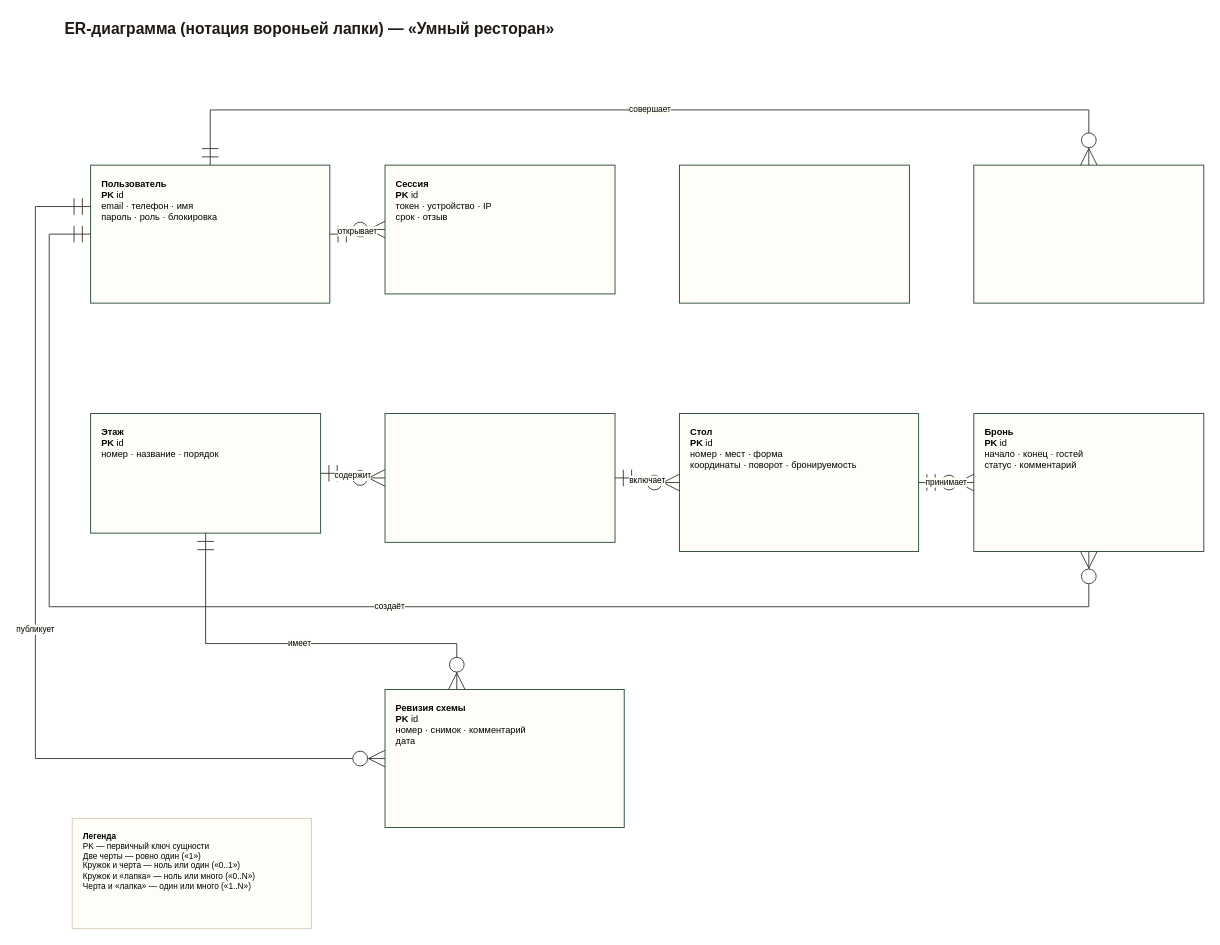
The diagram is 1220 pixels wide and 945 high, and some of its shapes have lost their labels. Each missing label, with the centre of its shape:
"Аудит PK id действие · сущность идентификатор · данные · дата" belongs at [1088,233].
"Зона PK id название · тип · полигон активность · бронируемость" belongs at [499,477].
"Код подтверждения PK id email · назначение · хэш срок · попытки" belongs at [793,233].
